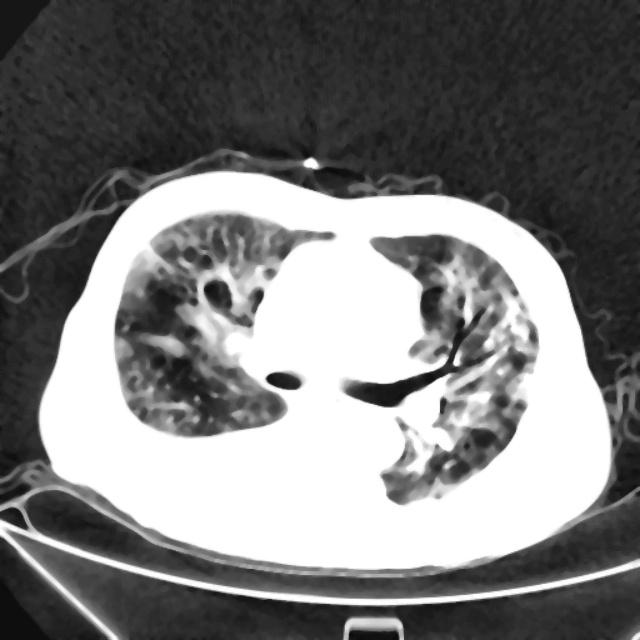covid: (31, 164, 612, 573)
